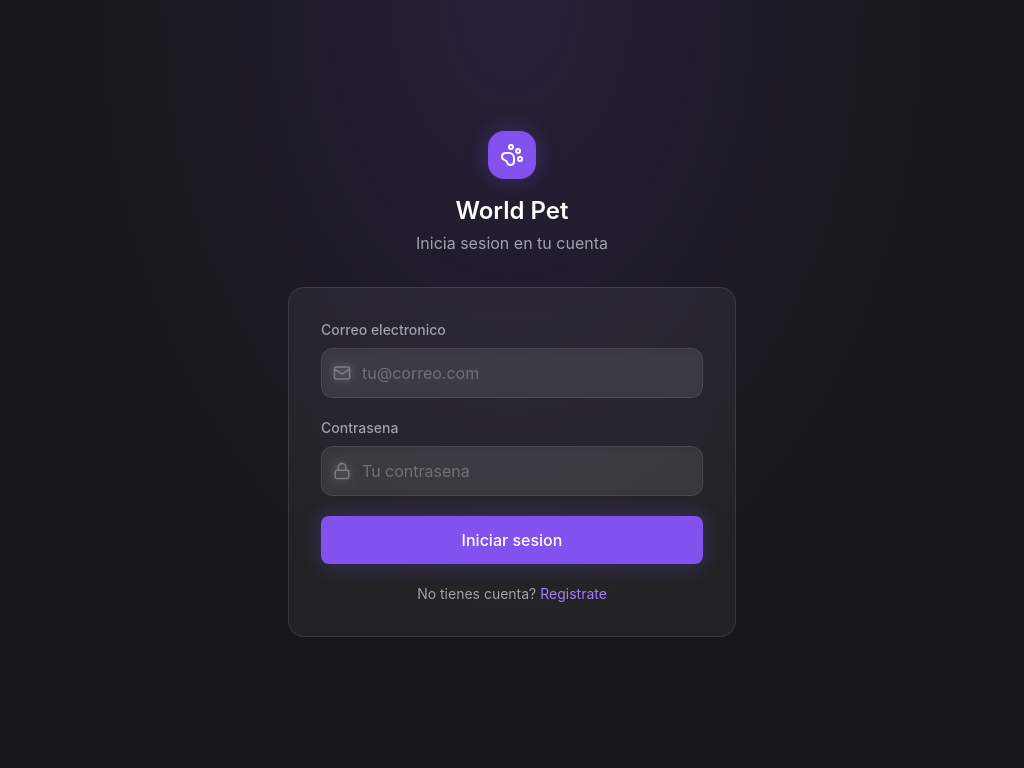
Login › shows validation error for empty email
Click the field with placeholder "tu@correo.com" at coordinates (512, 373), box top-left (321, 348), bottom-right (703, 398)
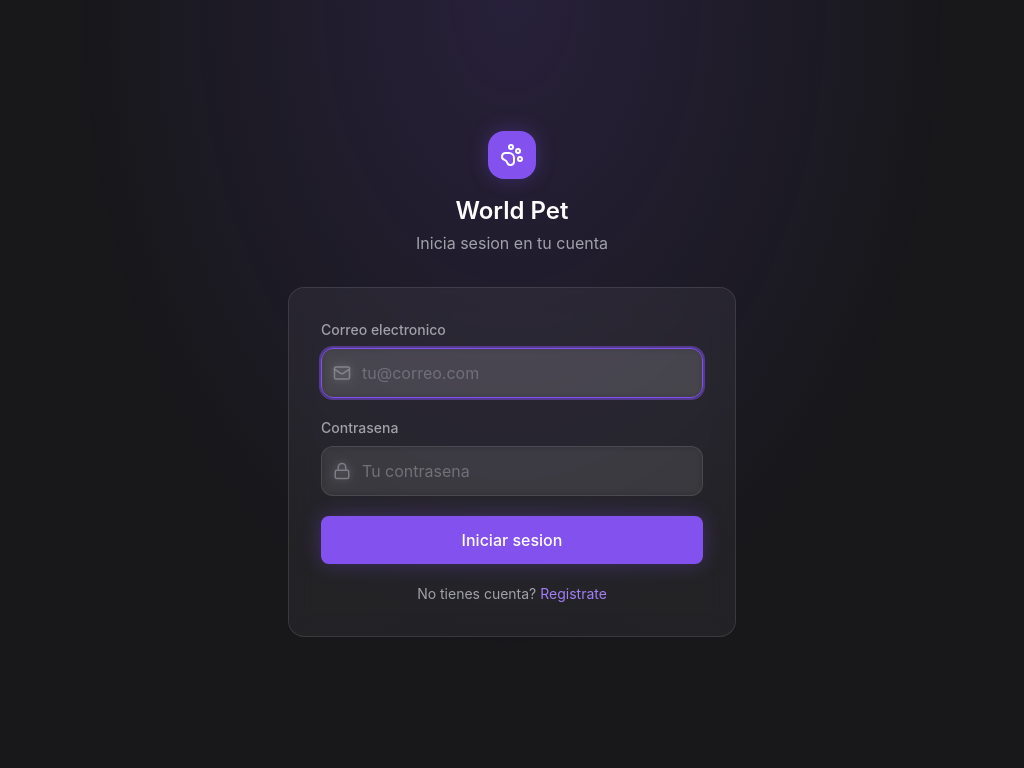
Press Tab
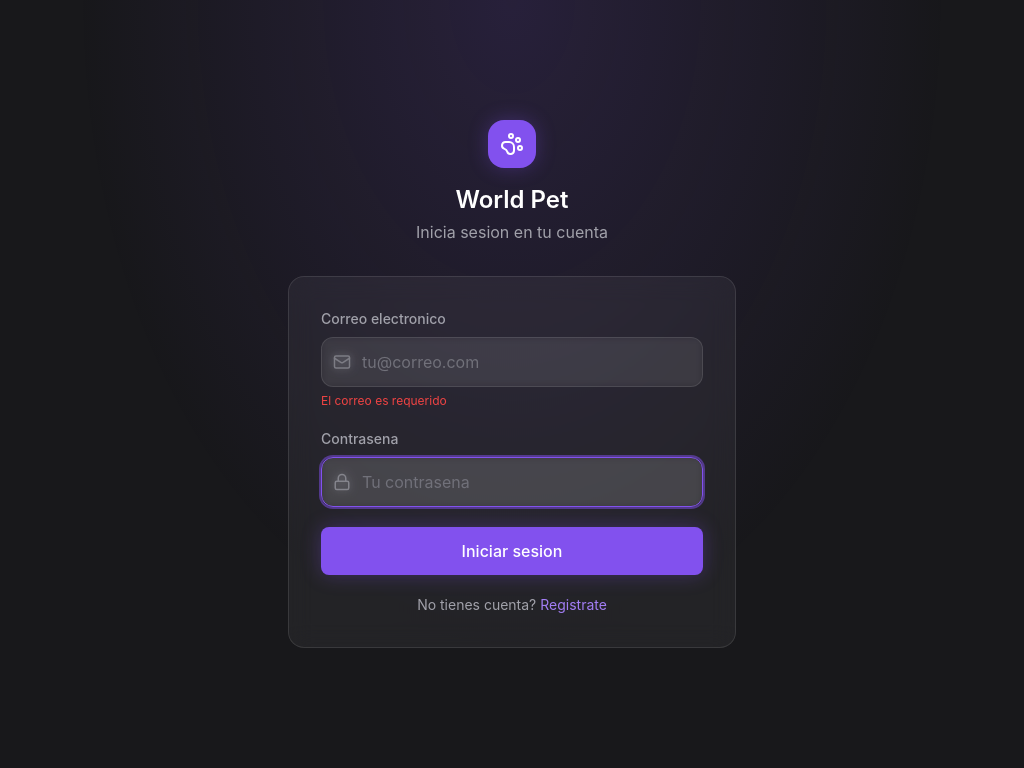
Now the text "El correo es requerido" is shown, box top-left (321, 393), bottom-right (447, 408)
